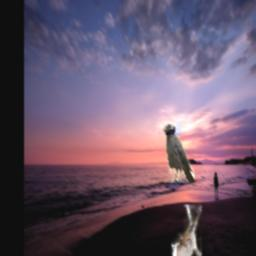Crow: (155, 50, 182, 136), (165, 123, 196, 183)
Cuckoo: (172, 206, 202, 256)
